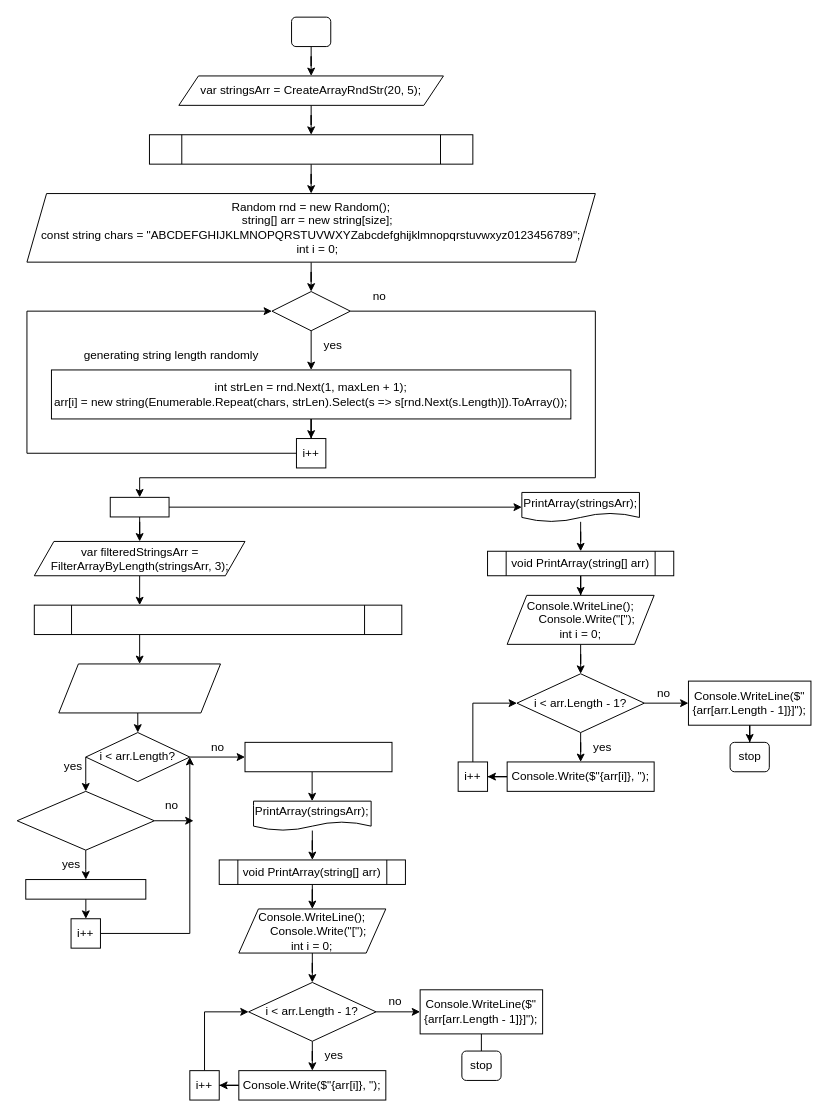
Image size: 828x1117. Some labels were removed from this diagram. Each missing label, with the centre of its shape:
arr[i].Length <= maxLength?: the point at 85,820
filteredList.Add(arr[i]);: the point at 85,889
i < size?: the point at 310,311
return arr;: the point at 139,506
return filteredList.ToArray();: the point at 318,756
start: the point at 311,31
string[] CreateArrayRndStr(int size, int maxLen): the point at 310,149
string[] FilterArrayByLength(string[] arr, int maxLength): the point at 217,619
var filteredList = new List<string>(); int i = 0;: the point at 139,688
